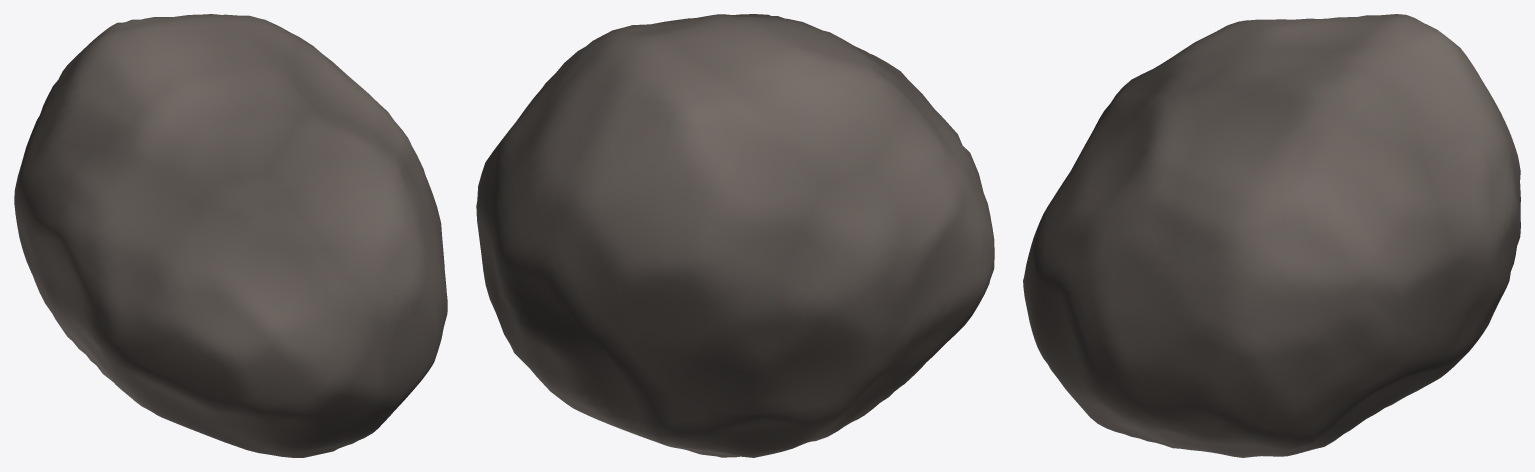
File: Rock.fbx
3 views of the same model, side by side, from view 1: azimuth 30°, elevation 25°; view 2: azimuth 150°, elevation 25°; view 3: azimuth 270°, elevation 25° (orthographic). The views are drawn at different scales.
Parts seen in each view (by area): view 1: rock; view 2: rock; view 3: rock.
Part boxes in pixels (bbox=[...]): rock: bbox=[14, 14, 447, 457]; rock: bbox=[476, 14, 994, 457]; rock: bbox=[1023, 14, 1520, 457].
Bounding box in the file's own units: 570 × 540 × 626.
Materials: 1 (1 with a texture image).
